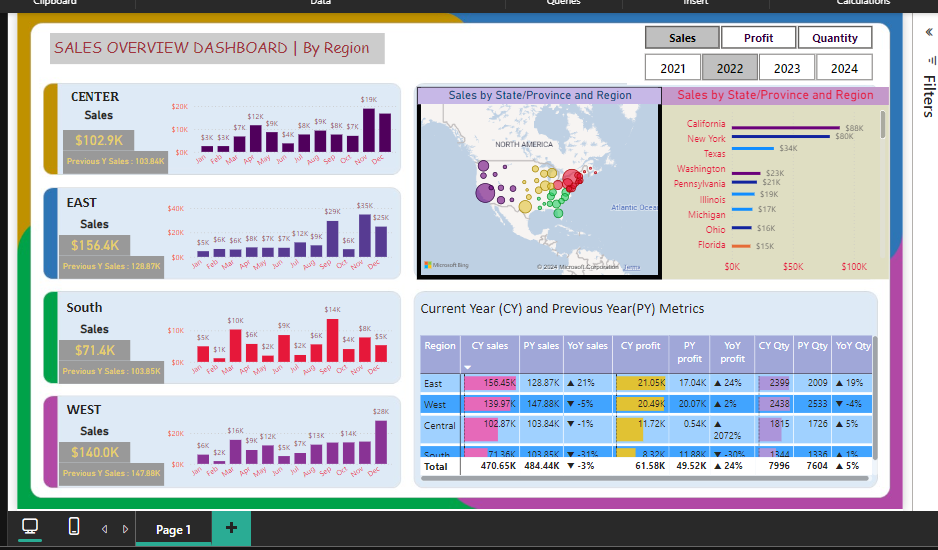

Layout of this report page (visuals, bound fields, positions):
{"tool":"powerbi","page":{"name":"Page 1","canvas":[1280,720],"ordinal":0},"visuals":[{"type":"card","fields":{"Values":["measure_table.Total sales"]},"box":[66.5,168.4,103.3,30.5],"z":0},{"type":"card","fields":{"Values":["measure_table.Total sales"]},"box":[60.7,320.2,103.3,30.5],"z":0,"group":"g1"},{"type":"card","fields":{"Values":["measure_table.Total sales"]},"box":[60.7,472,103.3,30.5],"z":0,"group":"g2"},{"type":"card","fields":{"Values":["measure_table.Total sales"]},"box":[60.7,619.5,103.3,30.5],"z":0,"group":"g3"},{"type":"slicer","fields":{"Values":["Sales metric.Sales metric"]},"box":[881.9,11.6,378.8,40.5],"z":1000},{"type":"textbox","box":[65.8,255.9,89.7,45.7],"z":1000,"group":"g1"},{"type":"textbox","box":[65.8,407.7,89.7,45.7],"z":1000,"group":"g2"},{"type":"textbox","box":[65.8,555.2,89.7,45.7],"z":1000,"group":"g3"},{"type":"slicer","fields":{"Values":["calender.Year"]},"box":[881.9,52,378.8,52],"z":2000},{"type":"card","fields":{"Values":["measure_table.Dynamic title"]},"box":[61.1,289.3,102.7,31.8],"z":2000,"group":"g1"},{"type":"card","fields":{"Values":["measure_table.Dynamic title"]},"box":[61.1,441.1,102.7,31.8],"z":2000,"group":"g2"},{"type":"card","fields":{"Values":["measure_table.Dynamic title"]},"box":[61.1,588.6,102.7,31.8],"z":2000,"group":"g3"},{"type":"group","id":"g1","title":"Group 1","box":[60.7,255.9,489.2,128],"z":3000},{"type":"card","fields":{"Values":["measure_table.PY kpi sales"]},"box":[61.2,350.7,151.8,33.3],"z":3000,"group":"g1"},{"type":"card","fields":{"Values":["measure_table.PY kpi sales"]},"box":[61.2,502.5,151.8,33.3],"z":3000,"group":"g2"},{"type":"card","fields":{"Values":["measure_table.PY kpi sales"]},"box":[61.2,650,151.8,33.3],"z":3000,"group":"g3"},{"type":"textbox","box":[71.6,104.1,89.7,45.7],"z":4000},{"type":"columnChart","fields":{"Y":["measure_table.Total sales"],"Category":["calender.Month"]},"box":[213,256.7,336.9,127.2],"z":4000,"group":"g1"},{"type":"columnChart","fields":{"Y":["measure_table.Total sales"],"Category":["calender.Month"]},"box":[213,408.5,336.9,127.2],"z":4000,"group":"g2"},{"type":"columnChart","fields":{"Y":["measure_table.Total sales"],"Category":["calender.Month"]},"box":[213,556,336.9,127.2],"z":4000,"group":"g3"},{"type":"card","fields":{"Values":["measure_table.Dynamic title"]},"box":[66.5,127.8,103.3,40.6],"z":5000},{"type":"card","fields":{"Values":["measure_table.PY kpi sales"]},"box":[67,198.9,151.8,33.3],"z":6000},{"type":"columnChart","fields":{"Y":["measure_table.Total sales"],"Category":["calender.Month"]},"box":[218.8,104.9,336.9,127.2],"z":7000},{"type":"group","id":"g2","title":"Group 1","box":[60.7,407.7,488.7,127.2],"z":8000},{"type":"group","id":"g3","title":"Group 1","box":[60.7,555.2,488.7,127.2],"z":9000},{"type":"textbox","box":[47.7,28.9,484.3,44.8],"z":10000},{"type":"map","fields":{"Size":["measure_table.Total sales"],"Category":["Sales Data.State/Province"],"Series":["Sales Data.Region"]},"box":[578.3,107,354.2,277.6],"z":11000},{"type":"clusteredBarChart","fields":{"Y":["measure_table.Total sales"],"Category":["Sales Data.State/Province"],"Series":["Sales Data.Region"]},"box":[932.5,107,328.2,277.6],"z":12000},{"type":"pivotTable","fields":{"Rows":["Sales Data.Region"],"Values":["measure_table.CY sales","measure_table.PY sales","measure_table.YoY sales","measure_table.CY profit","measure_table.PY profit","measure_table.YoY profit","measure_table.CY Qty","measure_table.PY Qty","measure_table.YoY Qty"]},"box":[578.3,461.2,672.3,221.2],"z":13000},{"type":"textbox","box":[578.3,409.2,449.6,47.7],"z":14000}]}

Visuals, with their boxes on the page's 1280x720 design canvas (x1, y1, x2, y2). These are canvas units, not pixel positions in the 938x550 screenshot, which may show the page scaled, cropped or inside an application window:
card - measure_table.Total sales: (left=66, top=168, right=170, bottom=199)
card - measure_table.Total sales: (left=61, top=320, right=164, bottom=351)
card - measure_table.Total sales: (left=61, top=472, right=164, bottom=502)
card - measure_table.Total sales: (left=61, top=620, right=164, bottom=650)
slicer - Sales metric.Sales metric: (left=882, top=12, right=1261, bottom=52)
textbox: (left=66, top=256, right=156, bottom=302)
textbox: (left=66, top=408, right=156, bottom=453)
textbox: (left=66, top=555, right=156, bottom=601)
slicer - calender.Year: (left=882, top=52, right=1261, bottom=104)
card - measure_table.Dynamic title: (left=61, top=289, right=164, bottom=321)
card - measure_table.Dynamic title: (left=61, top=441, right=164, bottom=473)
card - measure_table.Dynamic title: (left=61, top=589, right=164, bottom=620)
"Group 1" group: (left=61, top=256, right=550, bottom=384)
card - measure_table.PY kpi sales: (left=61, top=351, right=213, bottom=384)
card - measure_table.PY kpi sales: (left=61, top=502, right=213, bottom=536)
card - measure_table.PY kpi sales: (left=61, top=650, right=213, bottom=683)
textbox: (left=72, top=104, right=161, bottom=150)
columnChart - measure_table.Total sales x calender.Month: (left=213, top=257, right=550, bottom=384)
columnChart - measure_table.Total sales x calender.Month: (left=213, top=408, right=550, bottom=536)
columnChart - measure_table.Total sales x calender.Month: (left=213, top=556, right=550, bottom=683)
card - measure_table.Dynamic title: (left=66, top=128, right=170, bottom=168)
card - measure_table.PY kpi sales: (left=67, top=199, right=219, bottom=232)
columnChart - measure_table.Total sales x calender.Month: (left=219, top=105, right=556, bottom=232)
"Group 1" group: (left=61, top=408, right=549, bottom=535)
"Group 1" group: (left=61, top=555, right=549, bottom=682)
textbox: (left=48, top=29, right=532, bottom=74)
map - measure_table.Total sales x Sales Data.State/Province: (left=578, top=107, right=932, bottom=385)
clusteredBarChart - measure_table.Total sales x Sales Data.State/Province: (left=932, top=107, right=1261, bottom=385)
pivotTable - Sales Data.Region x measure_table.CY sales: (left=578, top=461, right=1251, bottom=682)
textbox: (left=578, top=409, right=1028, bottom=457)
